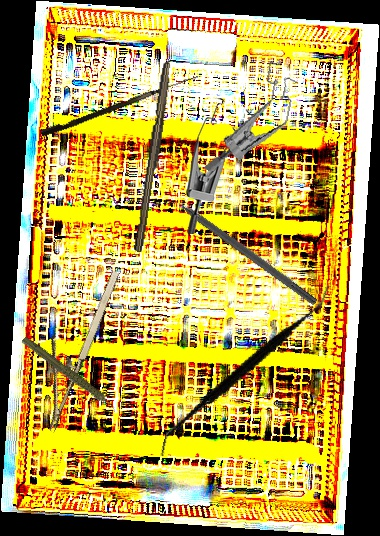Handpiece: (20, 320, 118, 431)
Hook Surgical: (160, 186, 320, 307), (40, 68, 199, 140)
Needle Holder: (16, 259, 125, 433)
Scalpel Handle: (133, 60, 175, 254)
Spatula Surgical: (159, 253, 331, 488)
Speculum: (202, 48, 303, 186), (186, 98, 254, 234)
